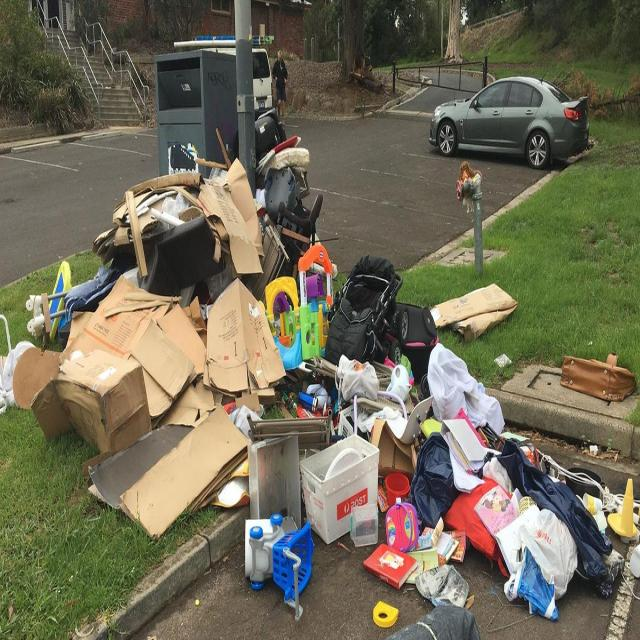dumping: (2, 117, 628, 638)
